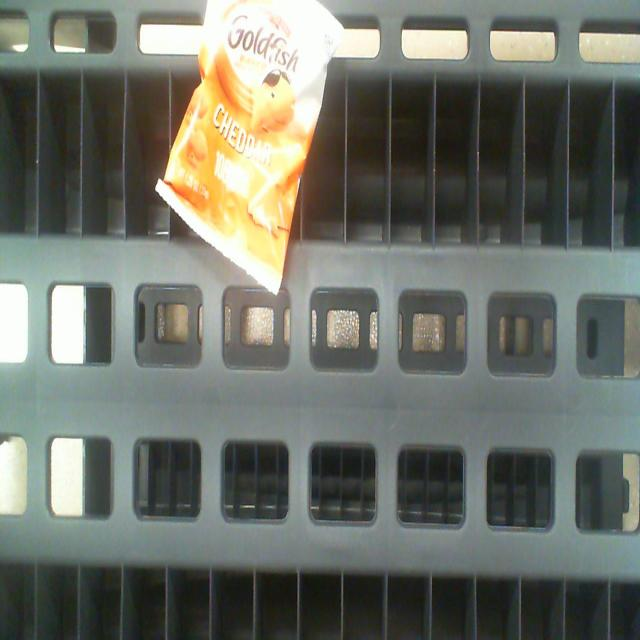snack: (158, 0, 342, 288)
